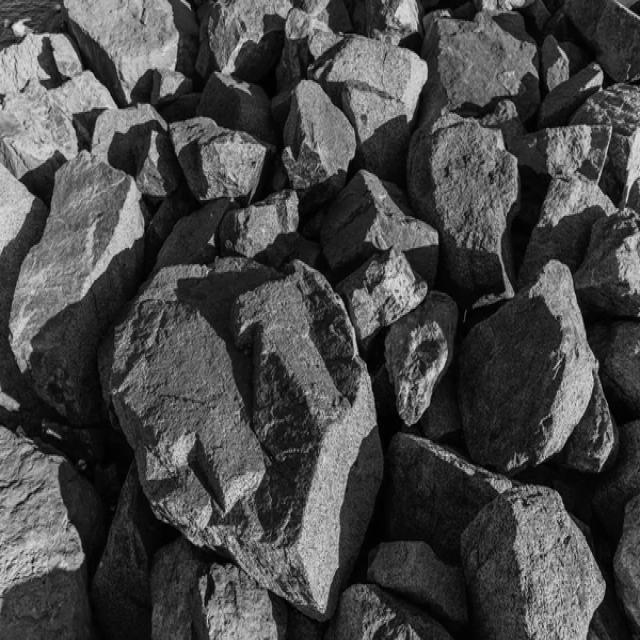Stone: (105, 259, 378, 620), (9, 150, 144, 427), (460, 261, 597, 476), (463, 486, 607, 640), (408, 112, 520, 308), (0, 427, 101, 640), (308, 34, 429, 183), (388, 435, 515, 563), (64, 0, 200, 106), (418, 11, 542, 126), (321, 171, 440, 286), (150, 539, 278, 640), (520, 166, 618, 288), (283, 78, 356, 214), (386, 293, 460, 426), (0, 75, 78, 201), (337, 245, 428, 343), (571, 83, 640, 205), (370, 542, 469, 626), (170, 117, 267, 201), (93, 104, 178, 196), (195, 0, 291, 81), (575, 208, 640, 318), (329, 585, 453, 640), (218, 189, 298, 268), (196, 70, 278, 144), (509, 125, 613, 182), (568, 0, 640, 76), (276, 8, 342, 89), (50, 69, 116, 149), (589, 322, 640, 422), (0, 32, 82, 94), (348, 0, 424, 50), (615, 496, 640, 639)
